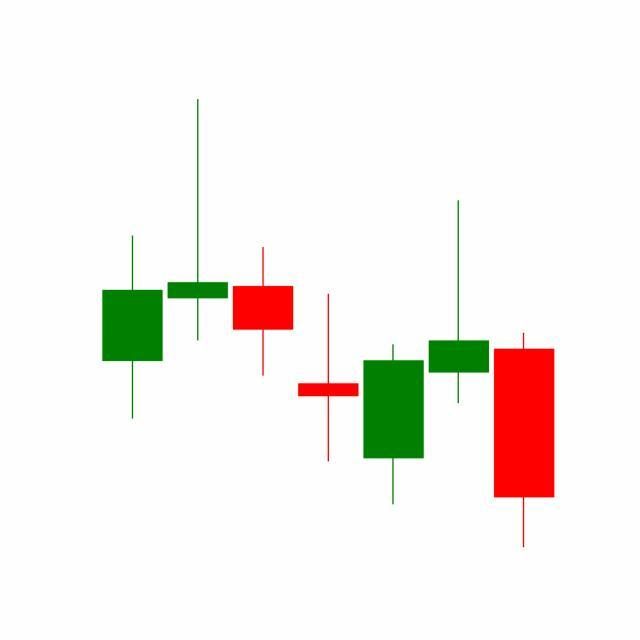Three Outside Up-Down: (295, 198, 492, 509)
